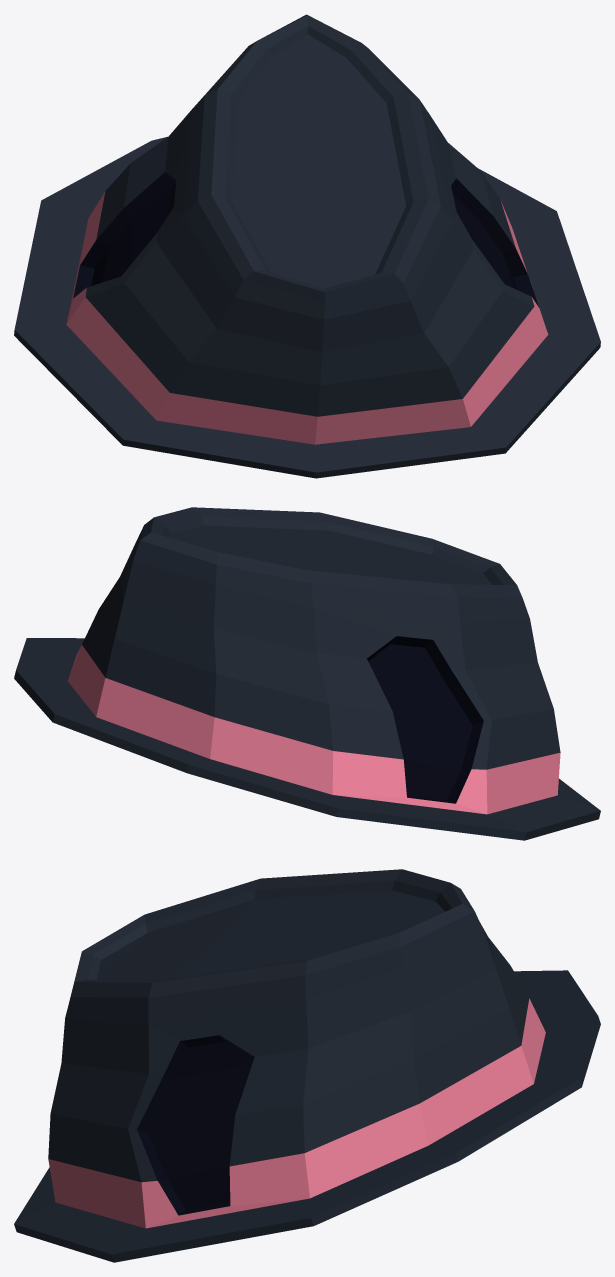
The model's file is Fedora.LoanCollector.fbx.
3 views of the same model, one above another, from view 1: azimuth 30°, elevation 25°; view 2: azimuth 150°, elevation 25°; view 3: azimuth 270°, elevation 25° (orthographic). The views are drawn at different scales.
Parts seen in each view (by area): view 1: Fedora.LoanCollector; view 2: Fedora.LoanCollector; view 3: Fedora.LoanCollector.
Boxes of the visible parts, x1,y1,x2,y2 form: Fedora.LoanCollector: [14, 14, 600, 478]; Fedora.LoanCollector: [14, 507, 600, 840]; Fedora.LoanCollector: [14, 869, 600, 1262].
Size of the model in its own units: 123 by 69.08 by 111.
